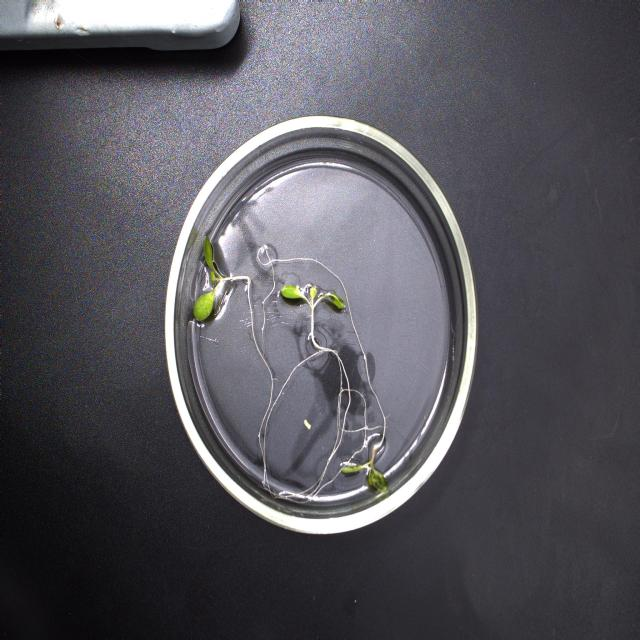leaf: (369, 465, 387, 493)
root: (233, 247, 387, 503)
steb: (214, 270, 235, 288)
